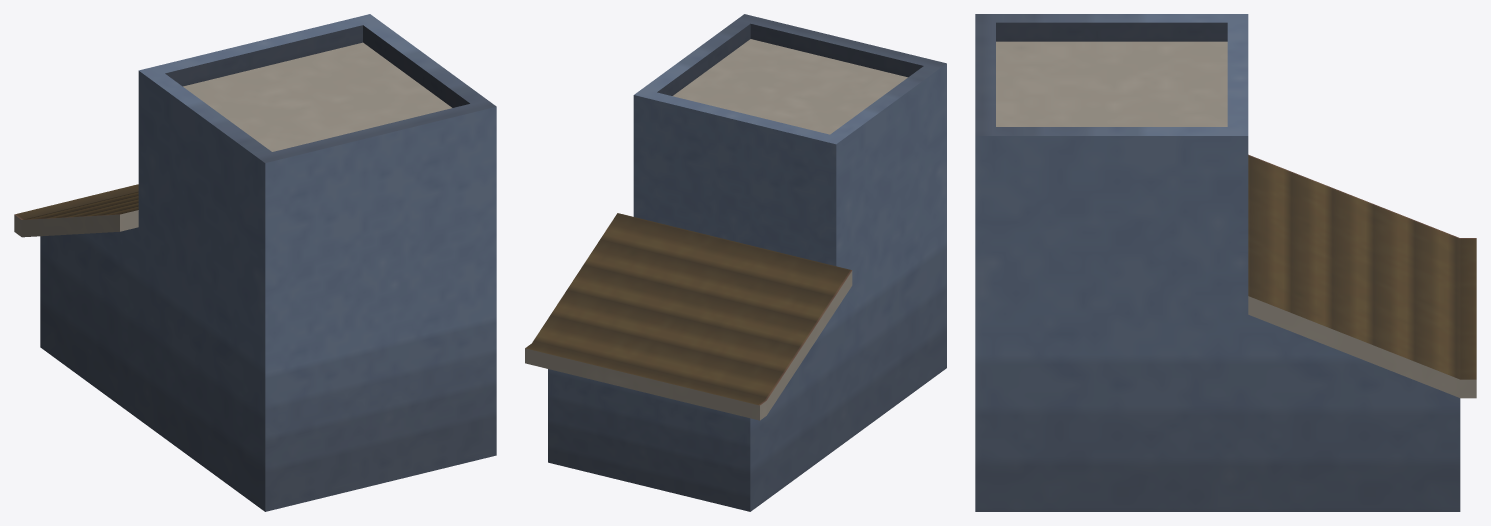
The model's file is 1x2_Building_1.fbx.
3 renders of one model, left to right at view 1: azimuth 30°, elevation 25°; view 2: azimuth 150°, elevation 25°; view 3: azimuth 270°, elevation 25°, orthographic. The views are drawn at different scales.
Visible parts, largest first — view 1: 1x2_Building_2; view 2: 1x2_Building_2; view 3: 1x2_Building_2.
Boxes of the visible parts, x1,y1,x2,y2 form: 1x2_Building_2: (14, 14, 496, 511); 1x2_Building_2: (525, 14, 946, 511); 1x2_Building_2: (975, 14, 1476, 511).
Bounding box in the file's own units: 161 × 200 × 242.
